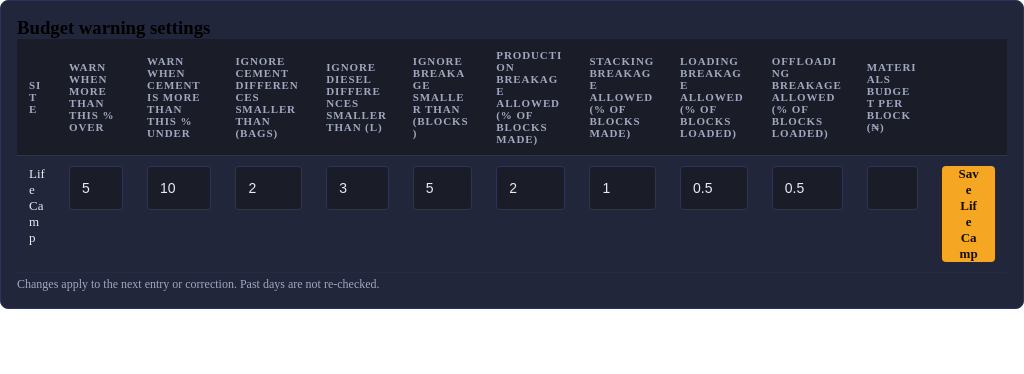
saves a positive materials budget and blocks zero and negative values
Type "0" into the number field named "Materials budget per block".
click(892, 188); type("0")  # box [867, 166, 918, 210]
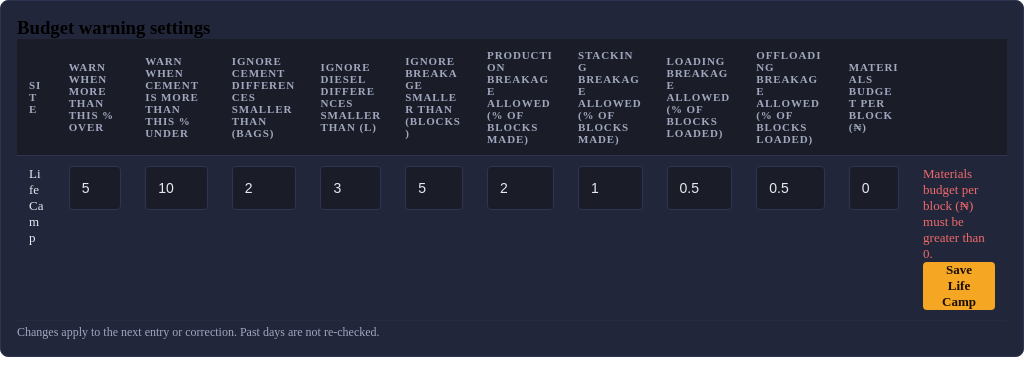
Expected: the button "Save Life Camp" is disabled, [923, 262, 995, 310]
Replace the text in the number field named "Materials budget per block" with "-1" at point(874, 188), box [849, 166, 899, 210]
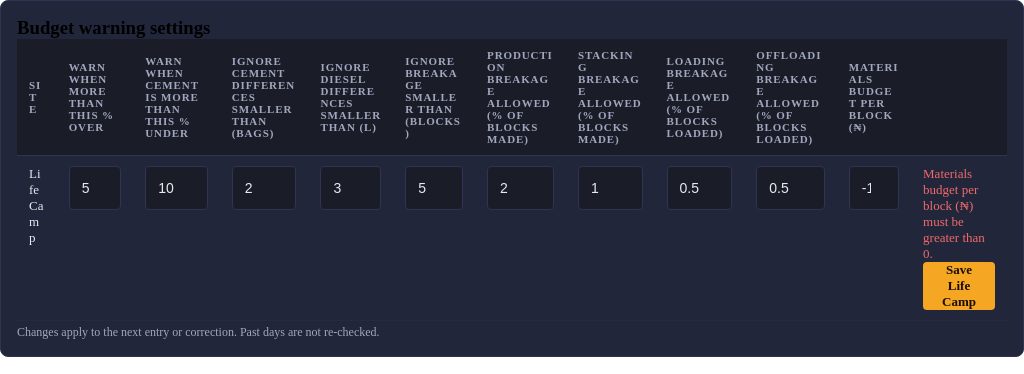
Expected: the button "Save Life Camp" is disabled, [923, 262, 995, 310]
Replace the text in the number field named "Materials budget per block" with "791.29" at point(874, 188), box [849, 166, 899, 210]
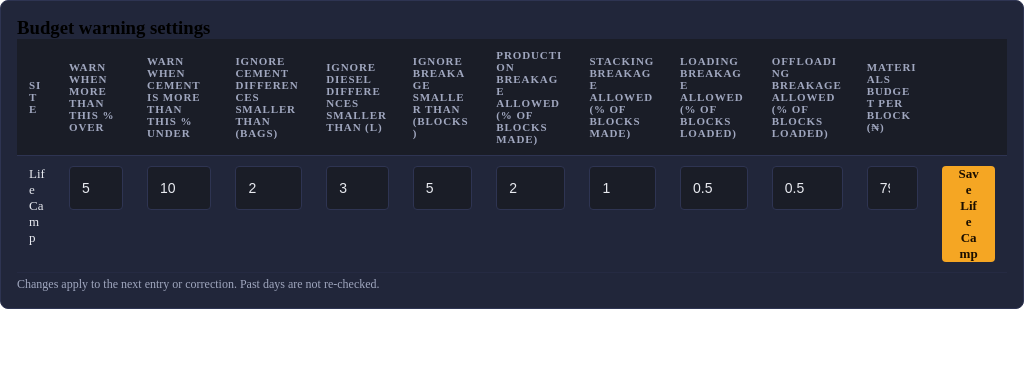
Click the button "Save Life Camp".
click(969, 214)  # box [942, 166, 995, 262]
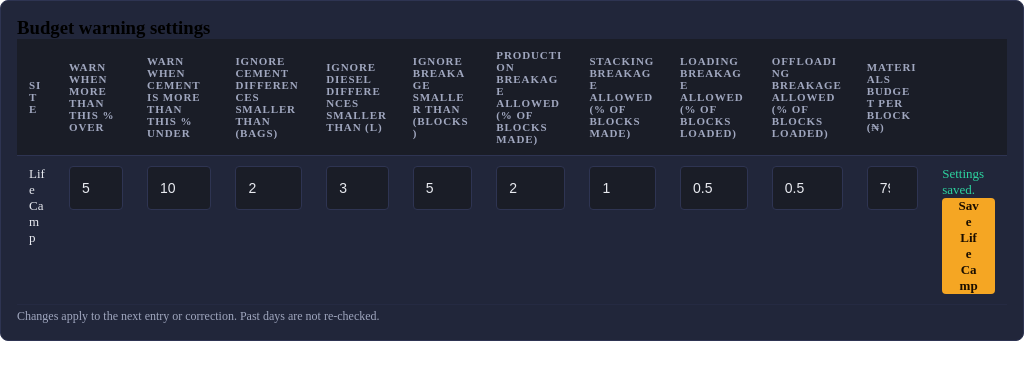
Expected: the text "Settings saved." is shown, [942, 166, 984, 197]
